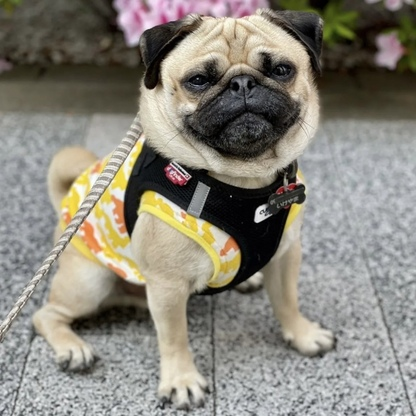Pug: (25, 2, 349, 413)
